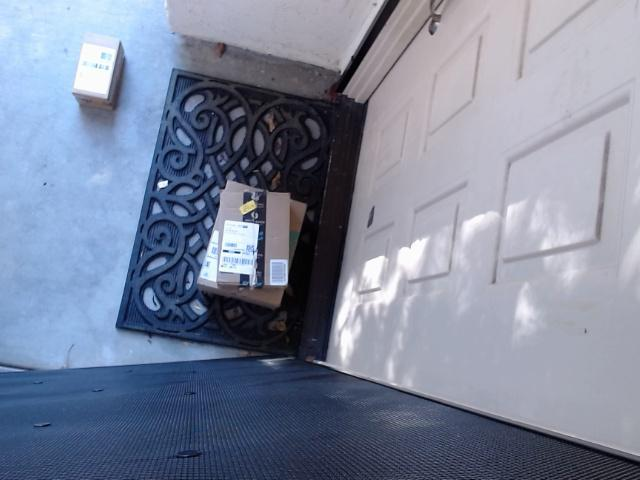box: (196, 175, 305, 331), (208, 183, 296, 289), (62, 26, 143, 141)
